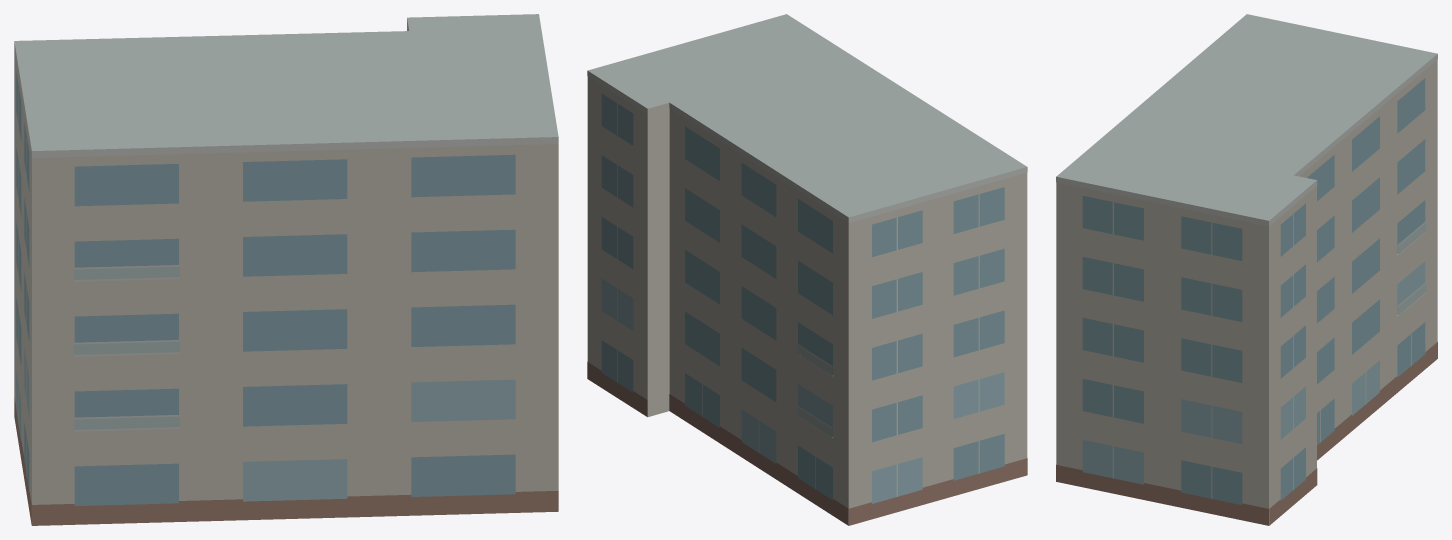
The model's file is survey-upis-32947214.glb.
3 renders of one model, left to right at view 1: azimuth 30°, elevation 25°; view 2: azimuth 150°, elevation 25°; view 3: azimuth 270°, elevation 25°, orthographic. The views are drawn at different scales.
Visible parts, largest first — view 1: survey-upis-32947214.tmp; view 2: survey-upis-32947214.tmp; view 3: survey-upis-32947214.tmp.
Part boxes in pixels (bbox=[...]): survey-upis-32947214.tmp: bbox=[14, 14, 558, 525]; survey-upis-32947214.tmp: bbox=[587, 14, 1027, 525]; survey-upis-32947214.tmp: bbox=[1056, 14, 1437, 525].
Size of the model in its own units: 19.21 by 13.2 by 14.98.
